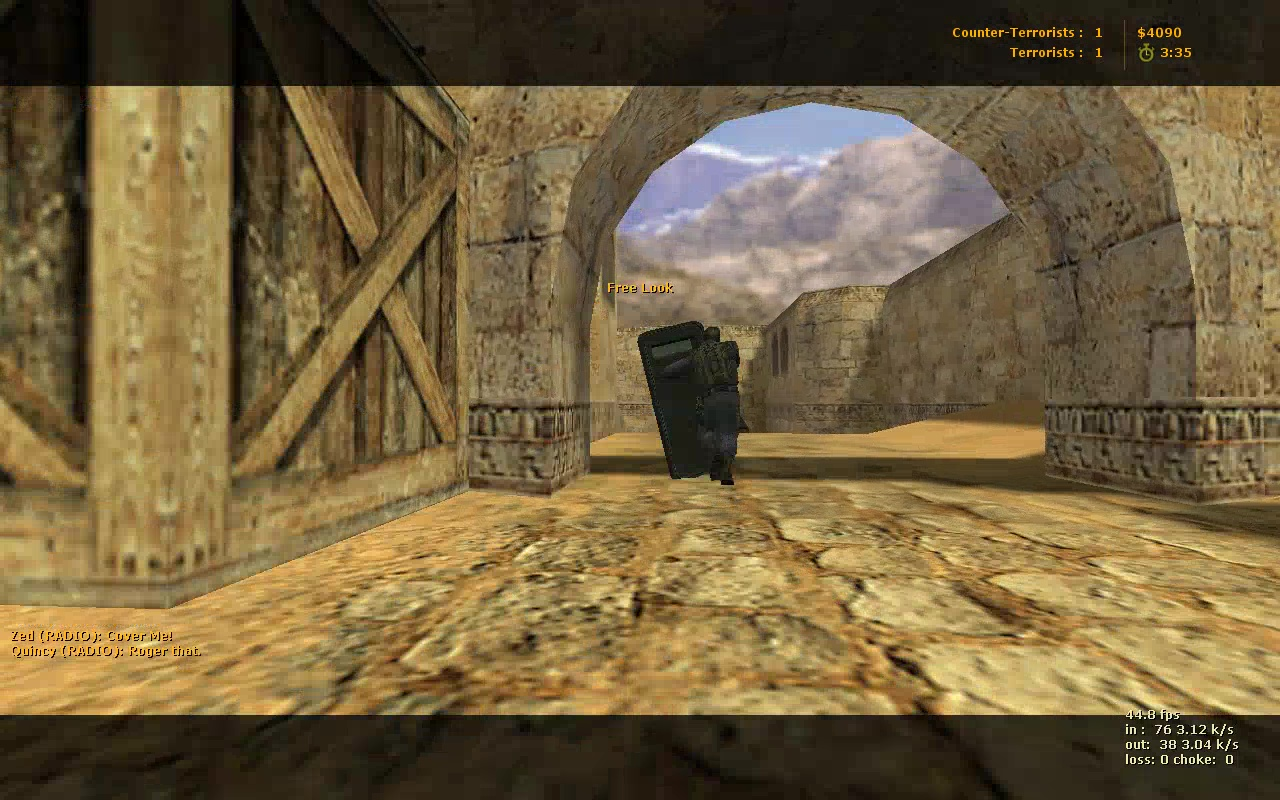ct: (639, 321, 741, 490)
